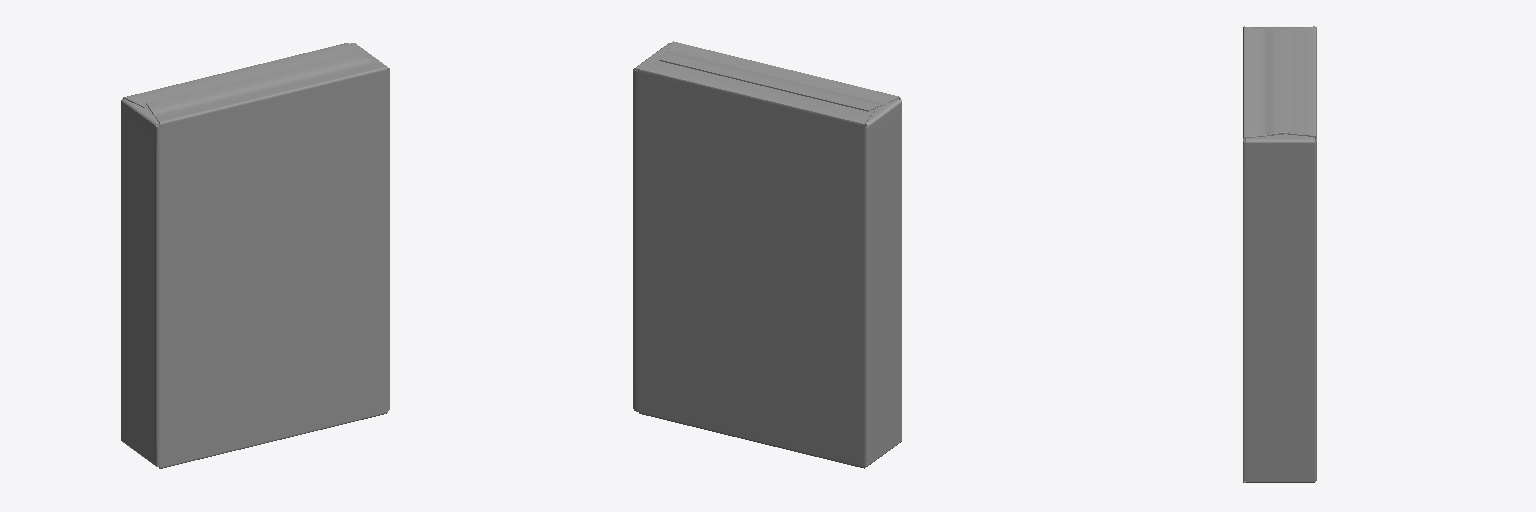
File: box_of_cereal.obj
3 views of the same model, side by side, from view 1: azimuth 30°, elevation 25°; view 2: azimuth 150°, elevation 25°; view 3: azimuth 270°, elevation 25° (orthographic).
Visible parts, largest first — view 1: Box_Box_Box_Box_of_cerealCOL_jpg.001; view 2: Box_Box_Box_Box_of_cerealCOL_jpg.001; view 3: Box_Box_Box_Box_of_cerealCOL_jpg.001.
Part boxes in pixels (bbox=[...]): Box_Box_Box_Box_of_cerealCOL_jpg.001: bbox=[121, 43, 389, 468]; Box_Box_Box_Box_of_cerealCOL_jpg.001: bbox=[633, 41, 901, 468]; Box_Box_Box_Box_of_cerealCOL_jpg.001: bbox=[1243, 26, 1316, 482].
Bounding box in the file's own units: 0.0802 × 0.114 × 0.0218.